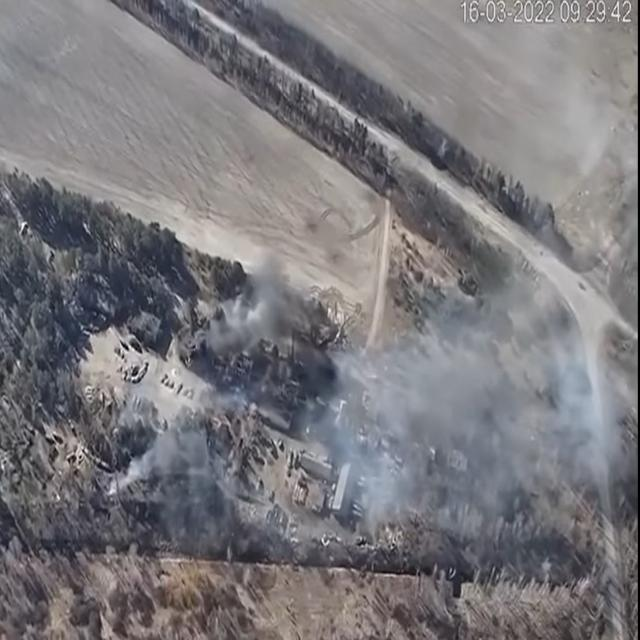cars: (284, 451, 293, 474), (254, 479, 262, 492)
